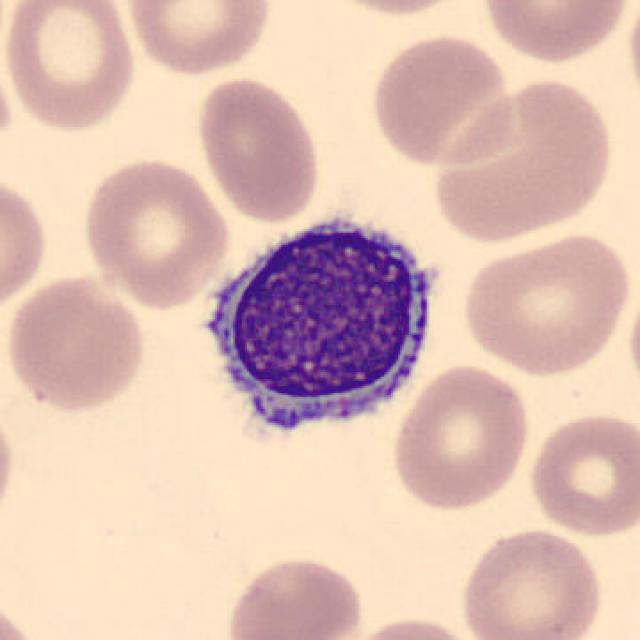Lymphocyte: (187, 201, 446, 460)
RBC: (428, 72, 618, 245), (457, 228, 635, 379), (78, 154, 233, 310), (388, 360, 534, 513), (2, 272, 149, 416), (367, 30, 518, 169), (192, 72, 324, 224), (0, 0, 140, 134), (457, 523, 608, 640), (524, 408, 638, 540), (222, 552, 368, 640), (121, 0, 275, 78), (476, 0, 634, 67), (0, 169, 52, 319), (332, 612, 486, 640), (308, 0, 474, 18), (0, 398, 20, 532), (624, 250, 640, 409), (0, 592, 46, 640)
